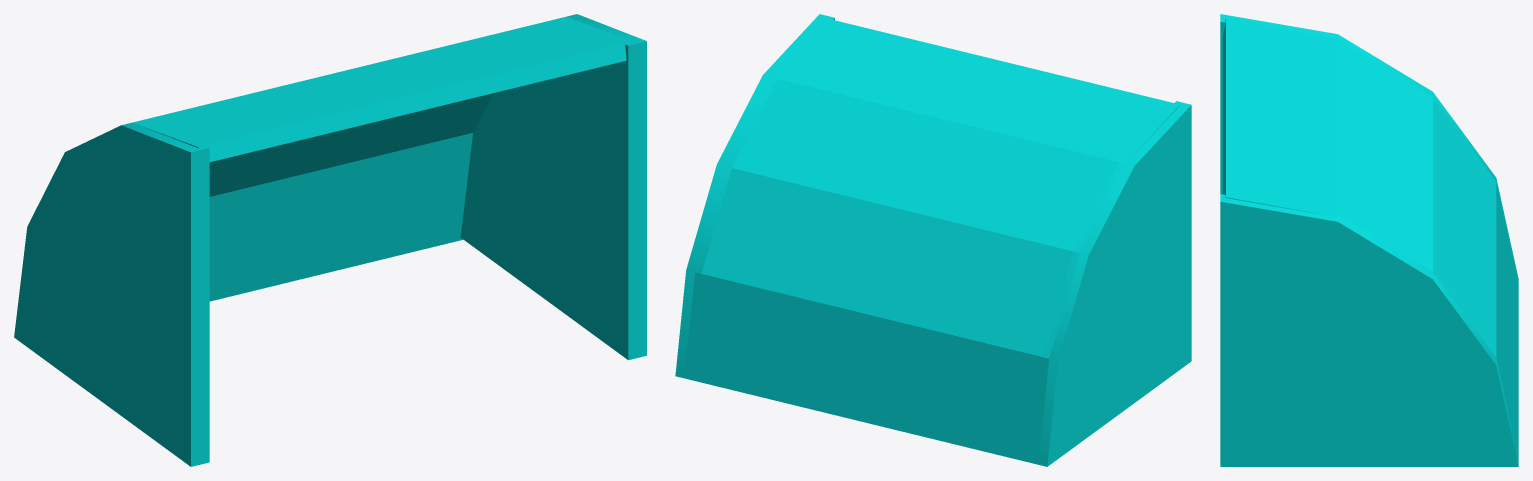
The model's file is SM_Prop_Shelter_01_Collision.fbx.
The picture shows the model from 3 angles, left to right: view 1: azimuth 30°, elevation 25°; view 2: azimuth 150°, elevation 25°; view 3: azimuth 270°, elevation 25°; orthographic projection. The views are drawn at different scales.
Visible parts, largest first — view 1: SM_Prop_Shelter_01_Collision; view 2: SM_Prop_Shelter_01_Collision; view 3: SM_Prop_Shelter_01_Collision.
Boxes of the visible parts, x1=… form: SM_Prop_Shelter_01_Collision: x1=14, y1=14, x2=646, y2=466; SM_Prop_Shelter_01_Collision: x1=675, y1=14, x2=1191, y2=466; SM_Prop_Shelter_01_Collision: x1=1220, y1=14, x2=1518, y2=466.
Bounding box in the file's own units: 328 × 218 × 220.
